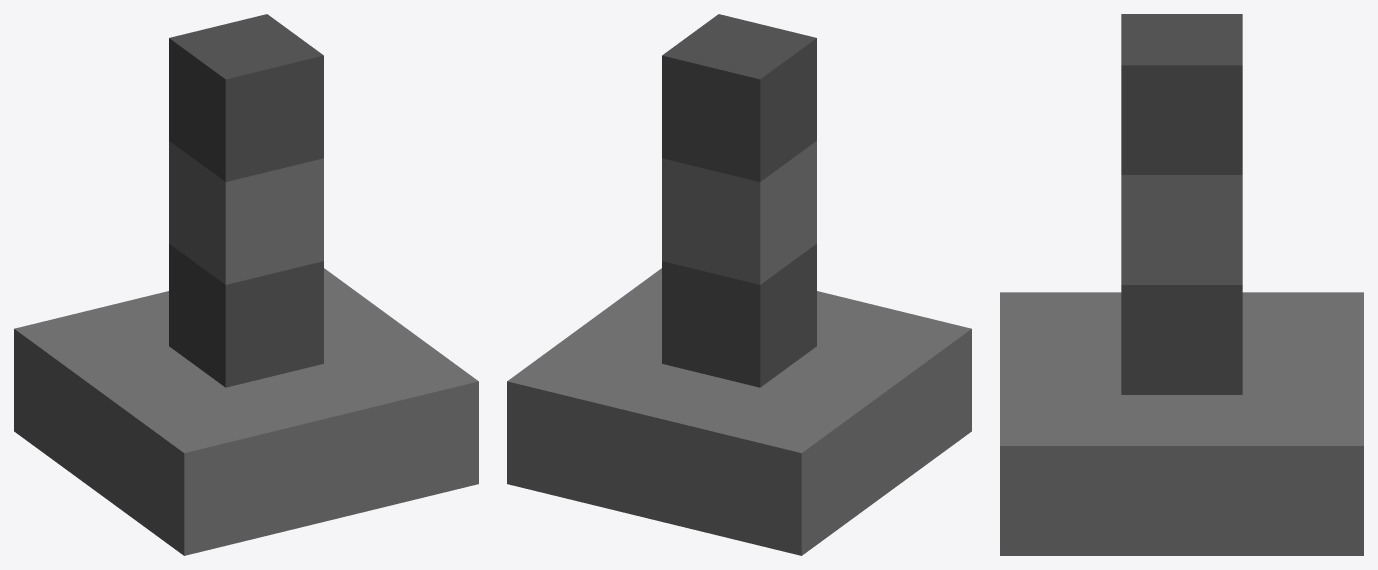
The model's file is Robot_vox-1-17.obj.
The picture shows the model from 3 angles, left to right: view 1: azimuth 30°, elevation 25°; view 2: azimuth 150°, elevation 25°; view 3: azimuth 270°, elevation 25°; orthographic projection. The views are drawn at different scales.
Size of the model in its own units: 0.3 by 0.4 by 0.3.
1 material, 1 textured.
